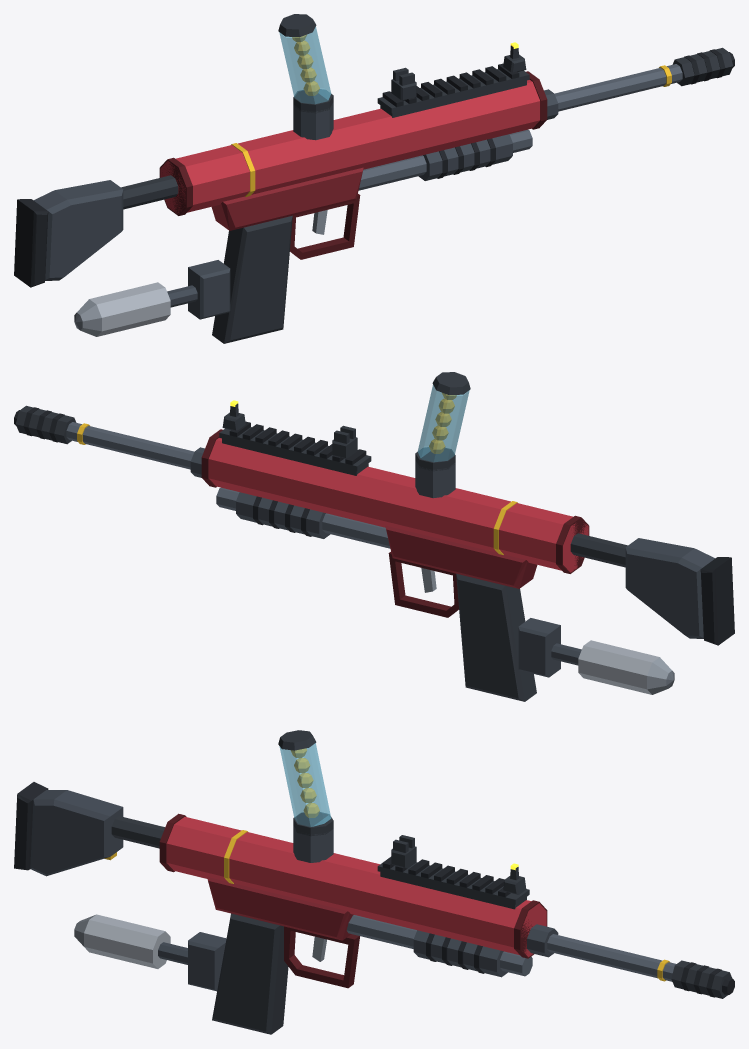
Rendered from phantom_factory.glb.
3 renders of one model, top to bottom at view 1: azimuth 30°, elevation 25°; view 2: azimuth 150°, elevation 25°; view 3: azimuth 330°, elevation 25°, orthographic.
Parts seen in each view (by area): view 1: phantom_factory; view 2: phantom_factory; view 3: phantom_factory.
Part boxes in pixels (<box>): phantom_factory: <box>14,14,734,343</box>; phantom_factory: <box>14,372,734,701</box>; phantom_factory: <box>14,730,734,1034</box>.
Bounding box in the file's own units: 0.884 × 0.3581 × 0.0582.
